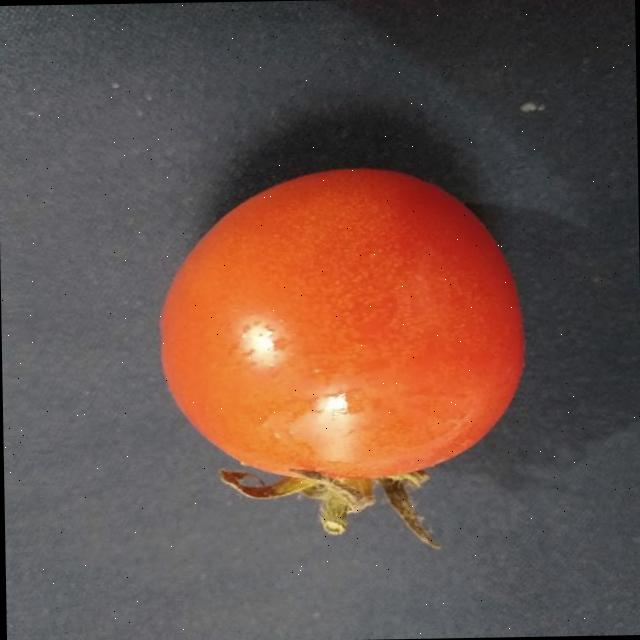tomato: (145, 143, 548, 538)
